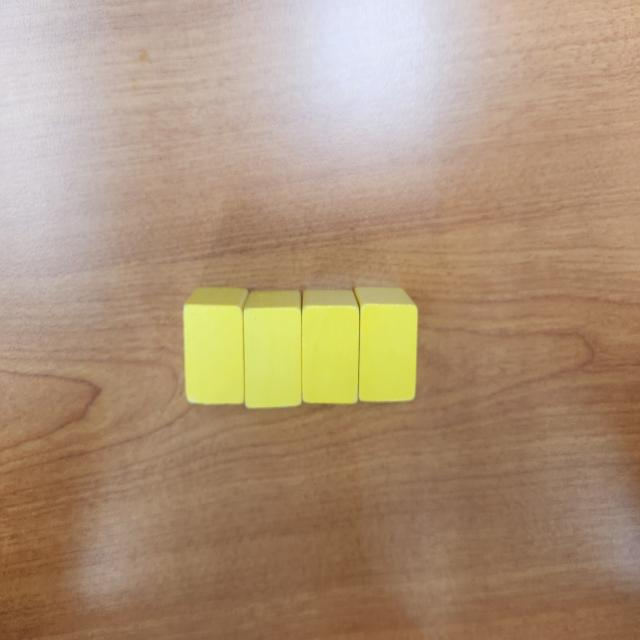yellow: (182, 286, 248, 405), (352, 287, 418, 403), (243, 290, 303, 410), (301, 290, 360, 404)
